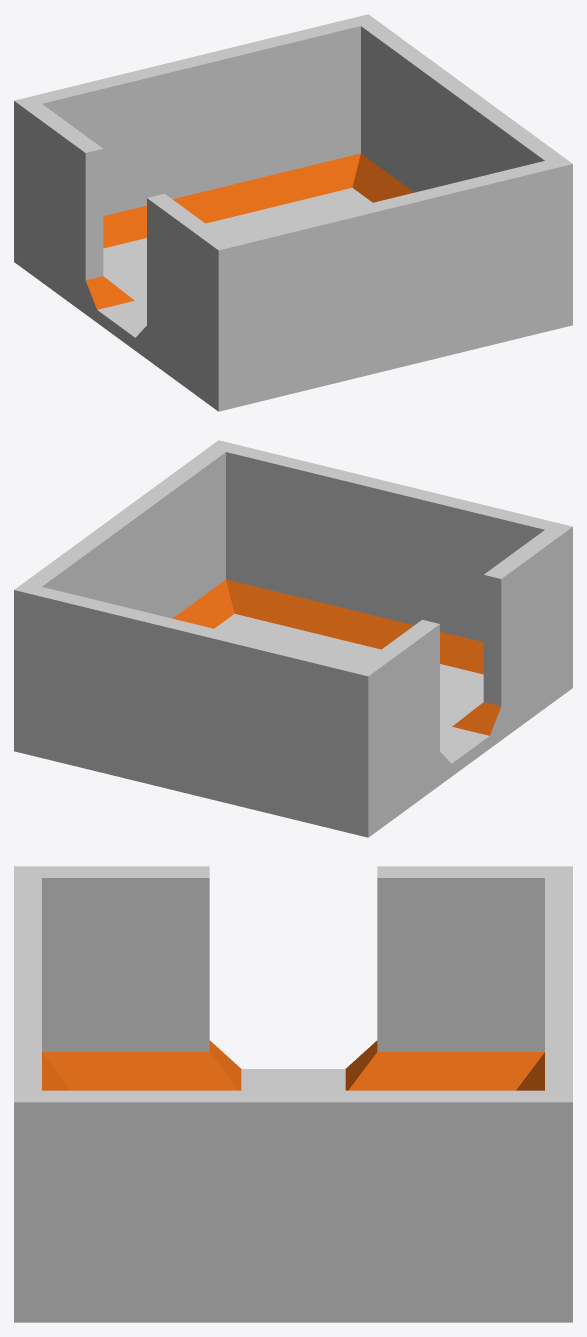
3 views of the same model, one above another, from view 1: azimuth 30°, elevation 25°; view 2: azimuth 150°, elevation 25°; view 3: azimuth 270°, elevation 25° (orthographic). The views are drawn at different scales.
Parts seen in each view (by area): view 1: Плоскость.004; view 2: Плоскость.004; view 3: Плоскость.004.
Boxes of the visible parts, left/top/right/bottom form: Плоскость.004: left=14, top=14, right=572, bottom=411; Плоскость.004: left=14, top=440, right=572, bottom=837; Плоскость.004: left=14, top=866, right=572, bottom=1322.
Bounding box in the file's own units: 200 × 87 × 200.
